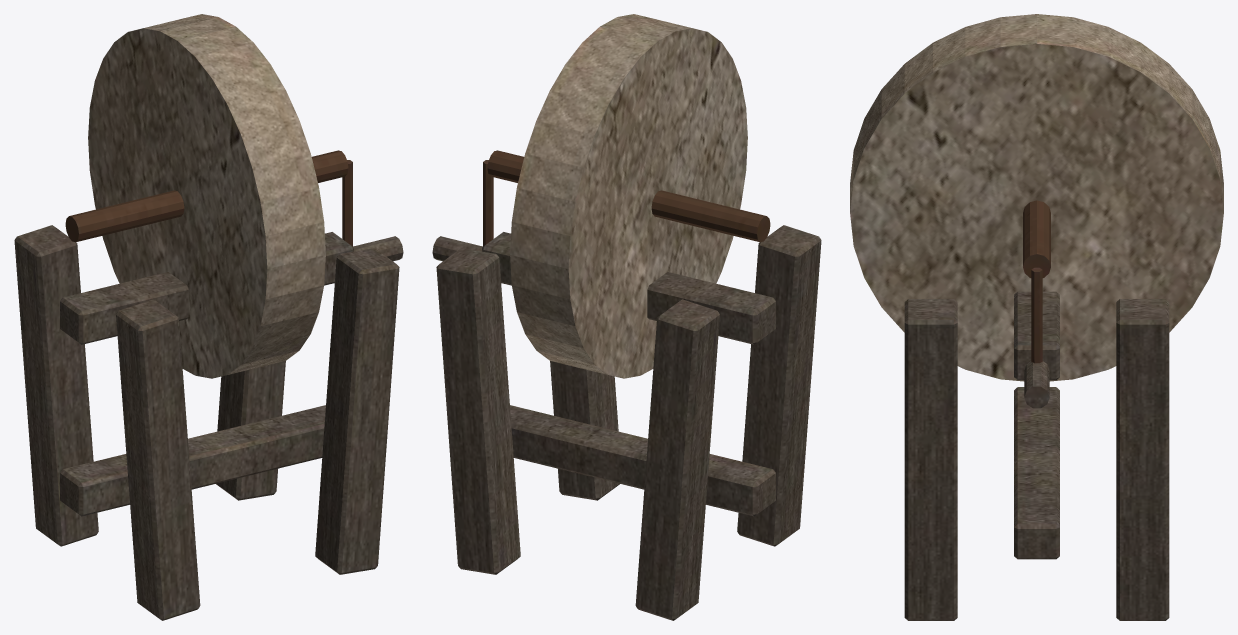
The model's file is whetstone-wheel.glb.
3 views of the same model, side by side, from view 1: azimuth 30°, elevation 25°; view 2: azimuth 150°, elevation 25°; view 3: azimuth 270°, elevation 25° (orthographic). The views are drawn at different scales.
Visible parts, largest first — view 1: whetstone-wheel; view 2: whetstone-wheel; view 3: whetstone-wheel.
Boxes of the visible parts, x1,y1,x2,y2 form: whetstone-wheel: (14, 14, 403, 620); whetstone-wheel: (432, 14, 821, 620); whetstone-wheel: (850, 14, 1223, 620).
Size of the model in its own units: 0.56 by 0.8416 by 0.53.
Materials: 1 (1 with a texture image).
